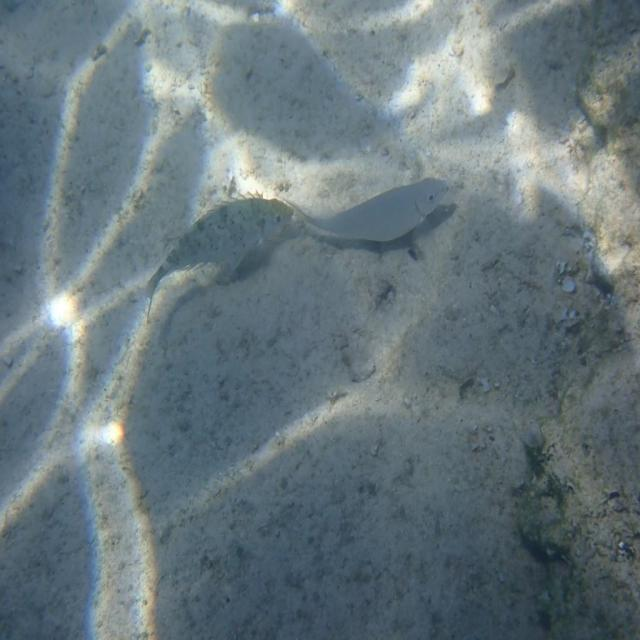Sokar Baligi: (135, 169, 298, 337)
